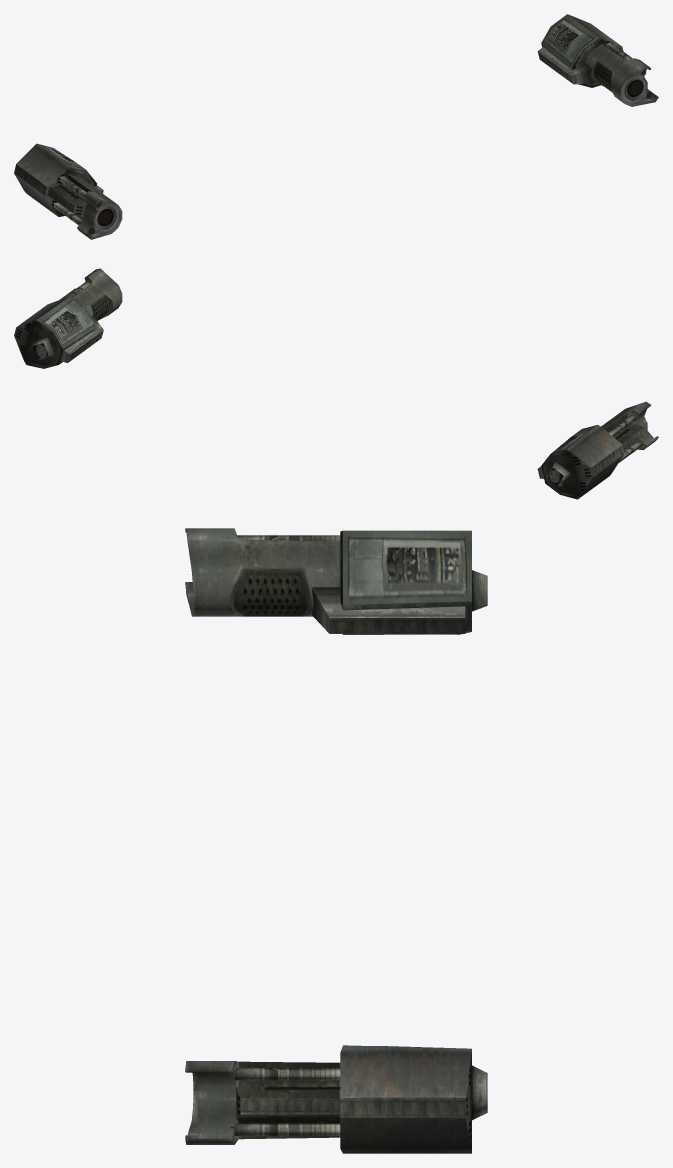
File: black_sun_fighter_medium_weapon2_s01_l0.fbx
3 views of the same model, one above another, from view 1: azimuth 30°, elevation 25°; view 2: azimuth 150°, elevation 25°; view 3: azimuth 270°, elevation 25° (orthographic). The views are drawn at different scales.
Visible parts, largest first — view 1: mesh_node; view 2: mesh_node; view 3: mesh_node.
Part boxes in pixels (box(x1,y1,x2,y2)): mesh_node: box(14, 14, 658, 239); mesh_node: box(14, 268, 658, 499); mesh_node: box(185, 528, 487, 1153).
Size of the model in its own units: 7.57 by 0.6171 by 1.71.
1 material, 1 textured.
